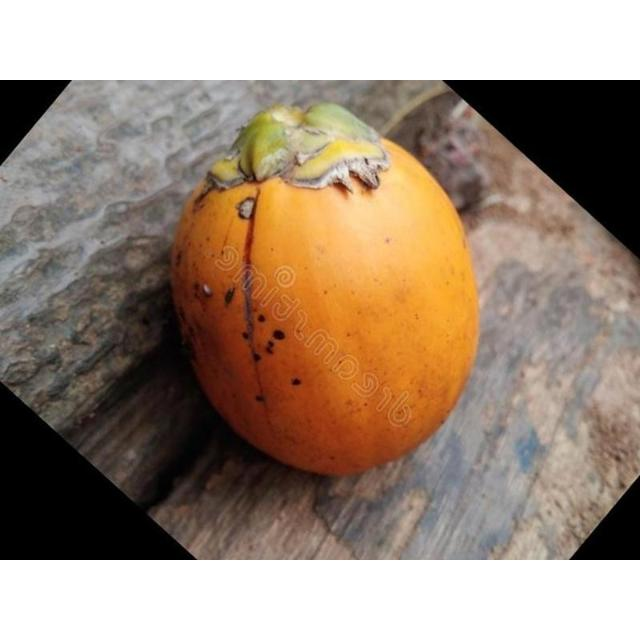good: (169, 102, 482, 478)
